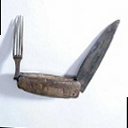Fork: (5, 12, 126, 100)
